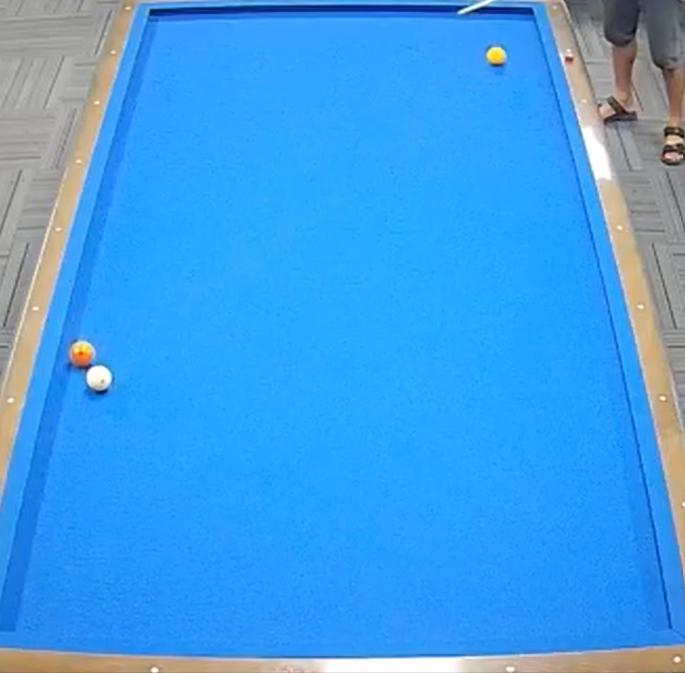orange ball: (64, 336, 99, 376)
white ball: (80, 363, 115, 398)
yellow ball: (481, 42, 514, 73)
